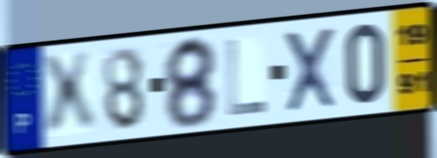0: (343, 21, 387, 108)
8: (161, 33, 220, 131), (101, 45, 147, 132)
L: (224, 37, 268, 119)
X: (38, 48, 99, 141), (282, 24, 339, 116)
